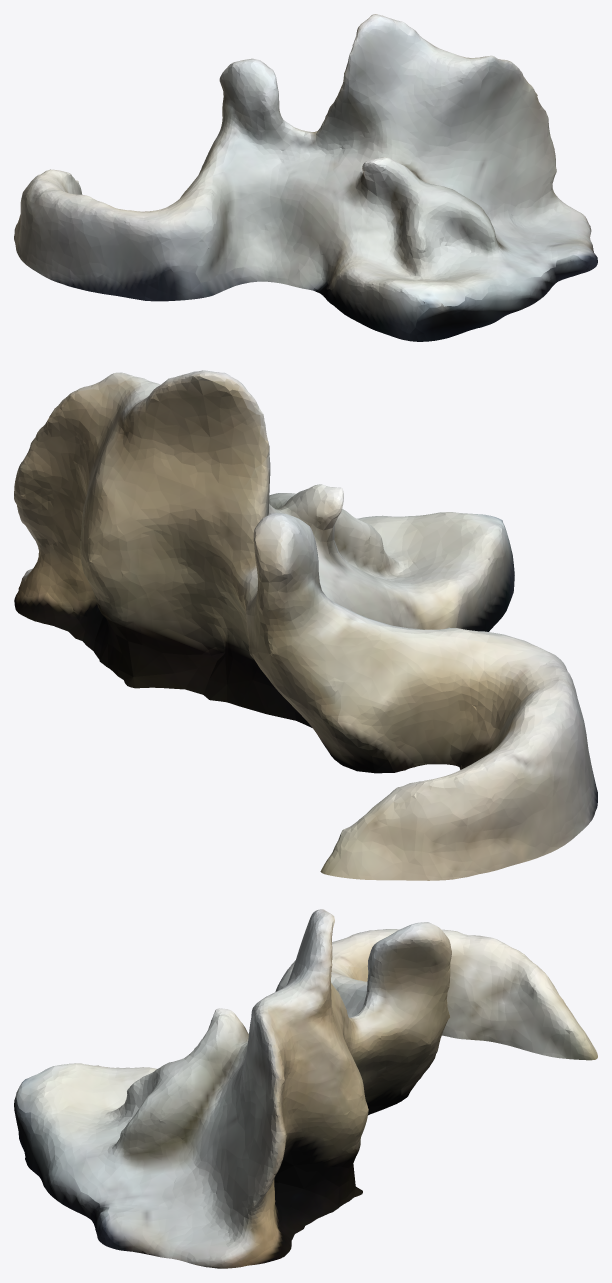
File: Amorph.glb
3 views of the same model, one above another, from view 1: azimuth 30°, elevation 25°; view 2: azimuth 150°, elevation 25°; view 3: azimuth 270°, elevation 25° (orthographic). The views are drawn at different scales.
Parts seen in each view (by area): view 1: mesh.008; view 2: mesh.008; view 3: mesh.008.
Part boxes in pixels (x1,y1,x2,y2): mesh.008: (14, 14, 597, 341); mesh.008: (14, 370, 597, 880); mesh.008: (14, 909, 597, 1268).
Size of the model in its own units: 0.3417 by 0.1506 by 0.3107.
1 material, 1 textured.
